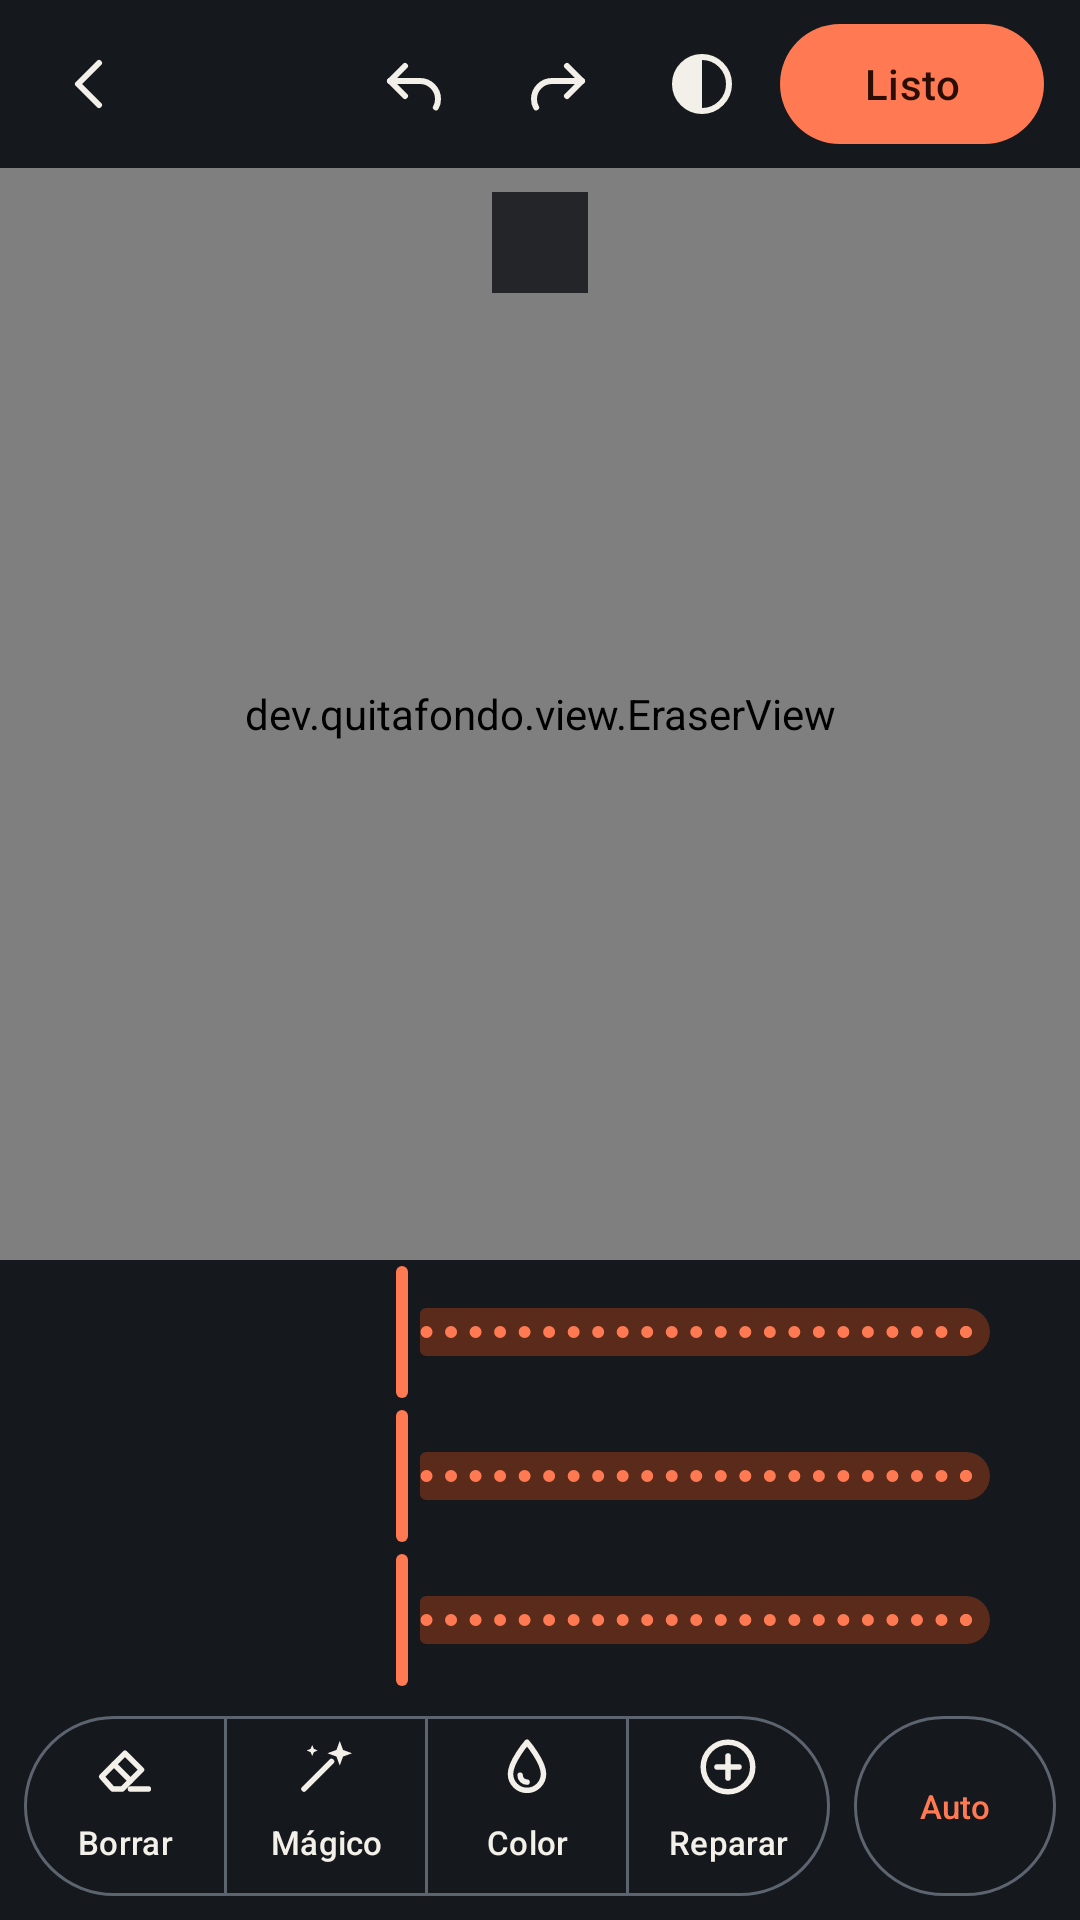

Icons on this 1080px x 1920px Android screen, each with the point to tap as point (x, y):
Atrás: point (88, 84)
Deshacer: point (414, 87)
Rehacer: point (558, 87)
